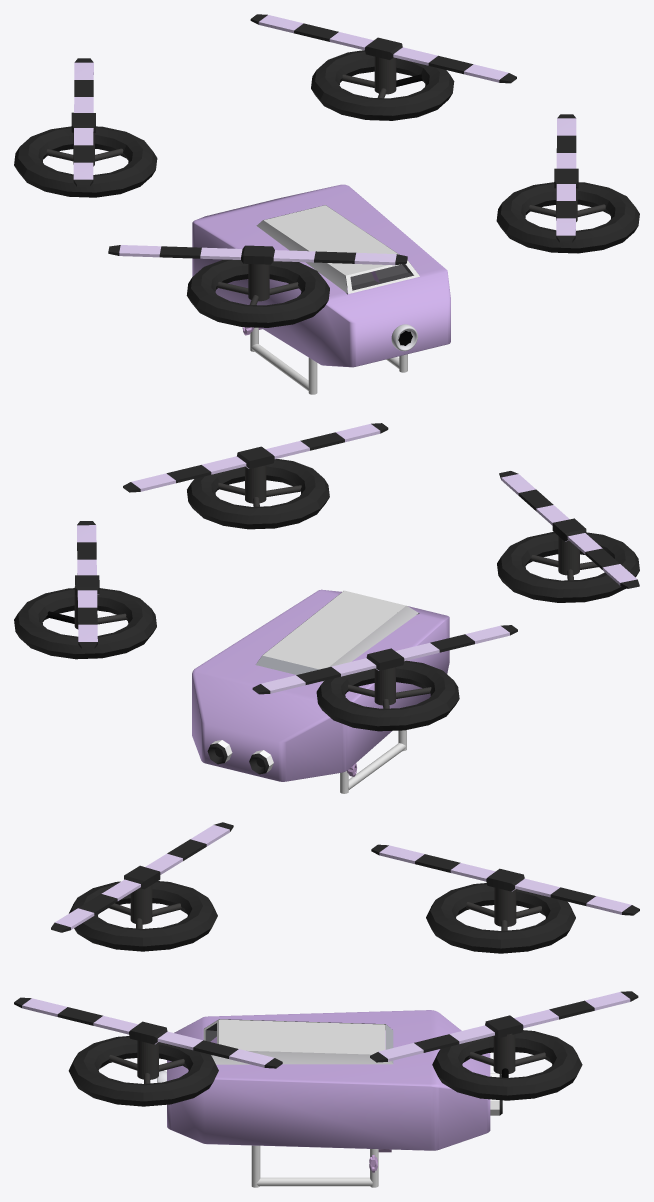
Rendered from droneNormal.fbx.
3 renders of one model, top to bottom at view 1: azimuth 30°, elevation 25°; view 2: azimuth 150°, elevation 25°; view 3: azimuth 270°, elevation 25°, orthographic.
Parts seen in each view (by area): view 1: 立方体, 5, 7, 2, 3, ding, 4, 1, 6, 柱体.002, tou; view 2: 立方体, 5, ding, 3, 2, 7, 1, 6, 4, 柱体.002, 喷气2; view 3: 立方体, 5, 7, ding, 3, 2, 6, 1, 4, 柱体.001.
Boxes of the visible parts, x1=… form: 立方体: x1=192, y1=184, x2=450, y2=367; 5: x1=108, y1=245, x2=407, y2=327; 7: x1=311, y1=50, x2=454, y2=120; 2: x1=496, y1=182, x2=639, y2=253; 3: x1=14, y1=126, x2=157, y2=197; ding: x1=256, y1=205, x2=419, y2=294; 4: x1=250, y1=14, x2=516, y2=83; 1: x1=554, y1=114, x2=578, y2=242; 6: x1=71, y1=58, x2=95, y2=186; 柱体.002: x1=250, y1=327, x2=317, y2=394; tou: x1=391, y1=324, x2=417, y2=351; 立方体: x1=192, y1=589, x2=449, y2=781; 5: x1=497, y1=471, x2=639, y2=602; ding: x1=256, y1=590, x2=419, y2=681; 3: x1=316, y1=660, x2=459, y2=731; 2: x1=187, y1=459, x2=329, y2=529; 7: x1=14, y1=586, x2=156, y2=659; 1: x1=123, y1=423, x2=388, y2=492; 6: x1=252, y1=625, x2=517, y2=694; 4: x1=75, y1=521, x2=99, y2=648; 柱体.002: x1=340, y1=730, x2=406, y2=793; 喷气2: x1=207, y1=740, x2=273, y2=774; 立方体: x1=167, y1=1010, x2=490, y2=1150; 5: x1=51, y1=822, x2=233, y2=951; 7: x1=432, y1=1030, x2=582, y2=1100; ding: x1=203, y1=1019, x2=393, y2=1064; 3: x1=426, y1=883, x2=575, y2=953; 2: x1=68, y1=1036, x2=218, y2=1106; 6: x1=371, y1=844, x2=639, y2=915; 1: x1=14, y1=997, x2=282, y2=1068; 4: x1=370, y1=991, x2=638, y2=1062; 柱体.001: x1=251, y1=1145, x2=378, y2=1187.
Bounding box in the file's own units: 2635 × 1083 × 2870.
